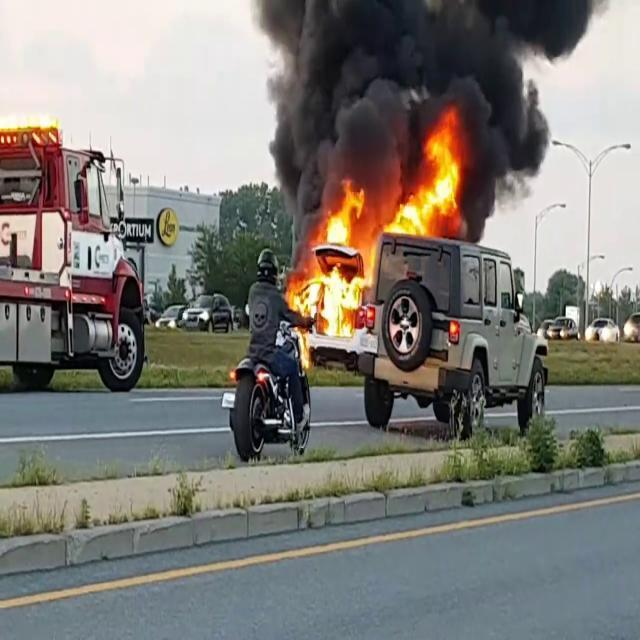Fire: (286, 181, 380, 349), (390, 114, 470, 238)
Smoke: (241, 0, 579, 203)
